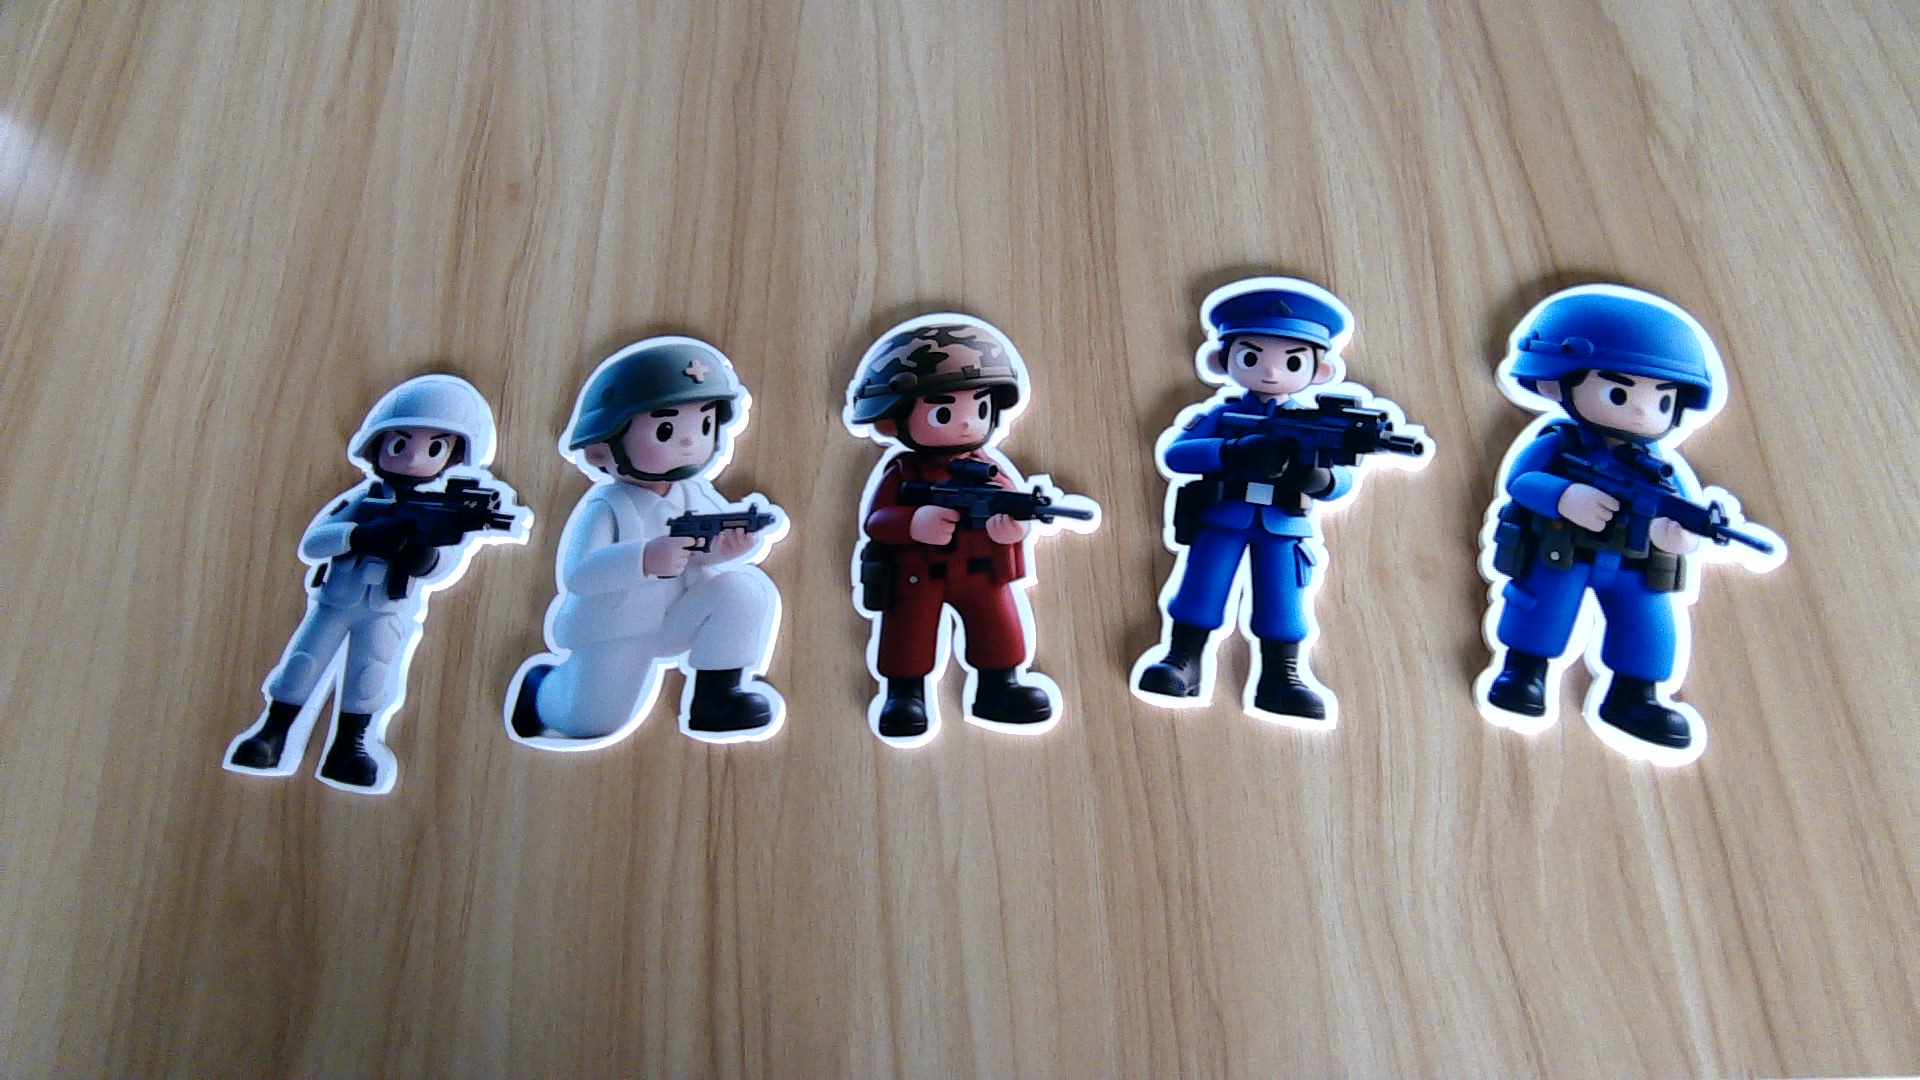人质: (208, 487, 502, 795), (502, 489, 798, 757)
敌人1: (848, 454, 1095, 750)
敌人2: (1478, 438, 1784, 762), (1139, 396, 1422, 723)
